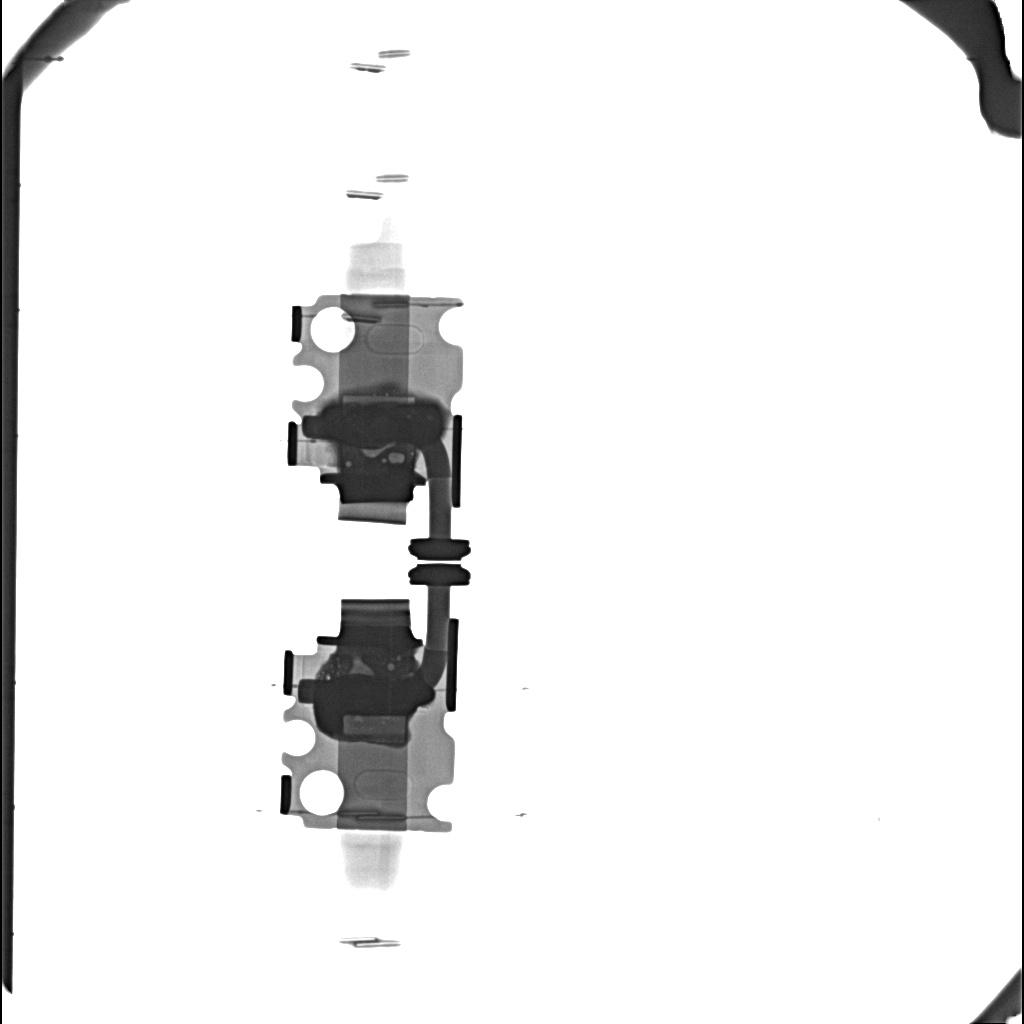气孔: (338, 717, 408, 745), (341, 393, 416, 403)
气泡: (349, 657, 373, 675), (360, 445, 393, 458), (388, 452, 406, 464), (344, 461, 352, 467)
水纹: (313, 675, 434, 739), (321, 404, 442, 445)
